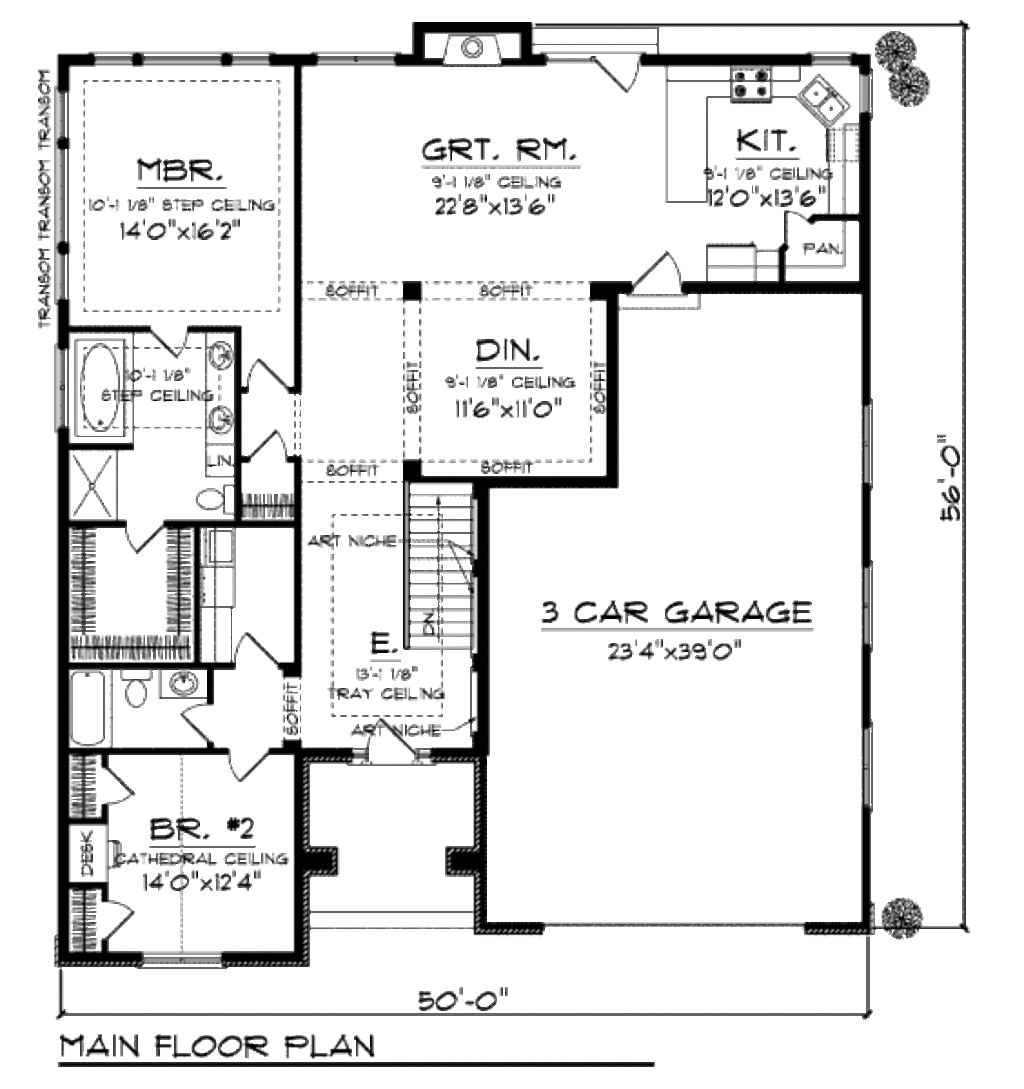door: (357, 704, 431, 773), (623, 244, 698, 308), (580, 48, 644, 101), (222, 750, 282, 794), (229, 425, 298, 463), (175, 700, 222, 749), (116, 515, 164, 561), (91, 899, 139, 944), (238, 633, 296, 669), (244, 360, 298, 397), (777, 199, 817, 248), (148, 322, 192, 364), (105, 769, 137, 810)
large_sink: (186, 473, 239, 515), (122, 667, 155, 709)
small_sink: (200, 328, 236, 458), (151, 666, 206, 701)
stairs: (389, 472, 483, 659)
tub: (69, 321, 139, 445), (64, 669, 122, 754)
twin_sink: (800, 75, 854, 128)
window: (846, 548, 886, 654), (135, 950, 236, 978), (855, 391, 878, 493), (863, 723, 883, 822)
